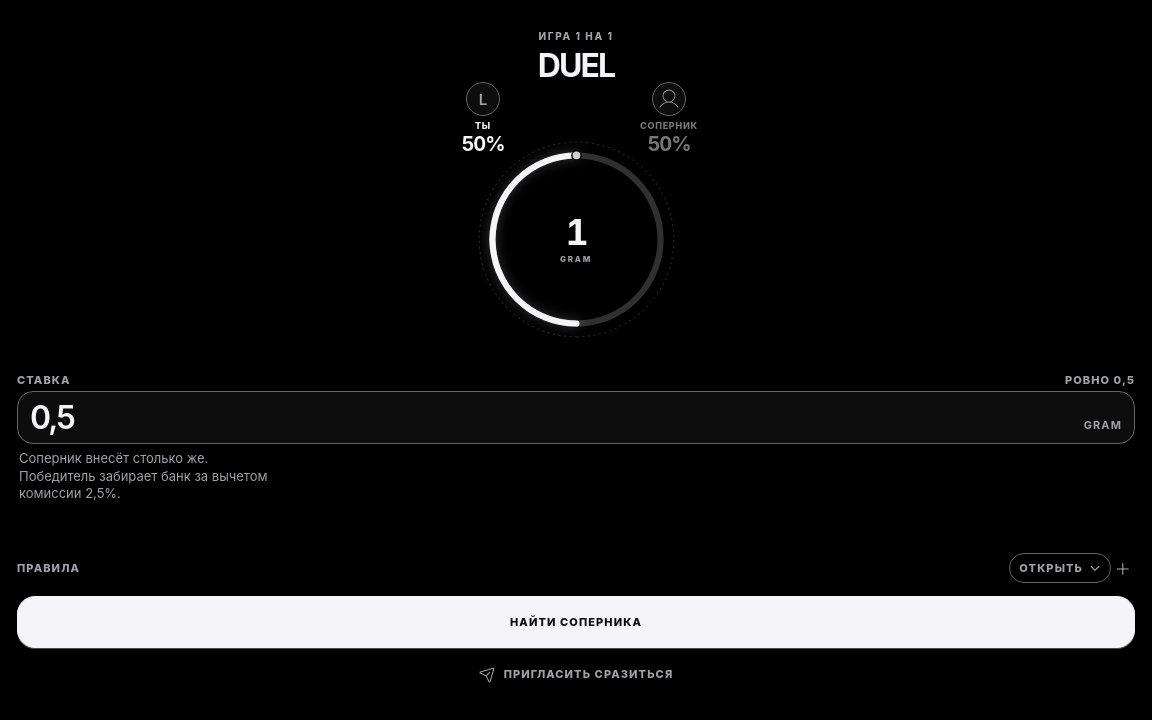
Test: DuelScreen › marks a failure as a failure instead of stamping it with a verified shield
Replace the text in the field named "Ставка в GRAM" with "0.1" at (557, 418), box x1=30 y1=398 x2=1084 y2=437
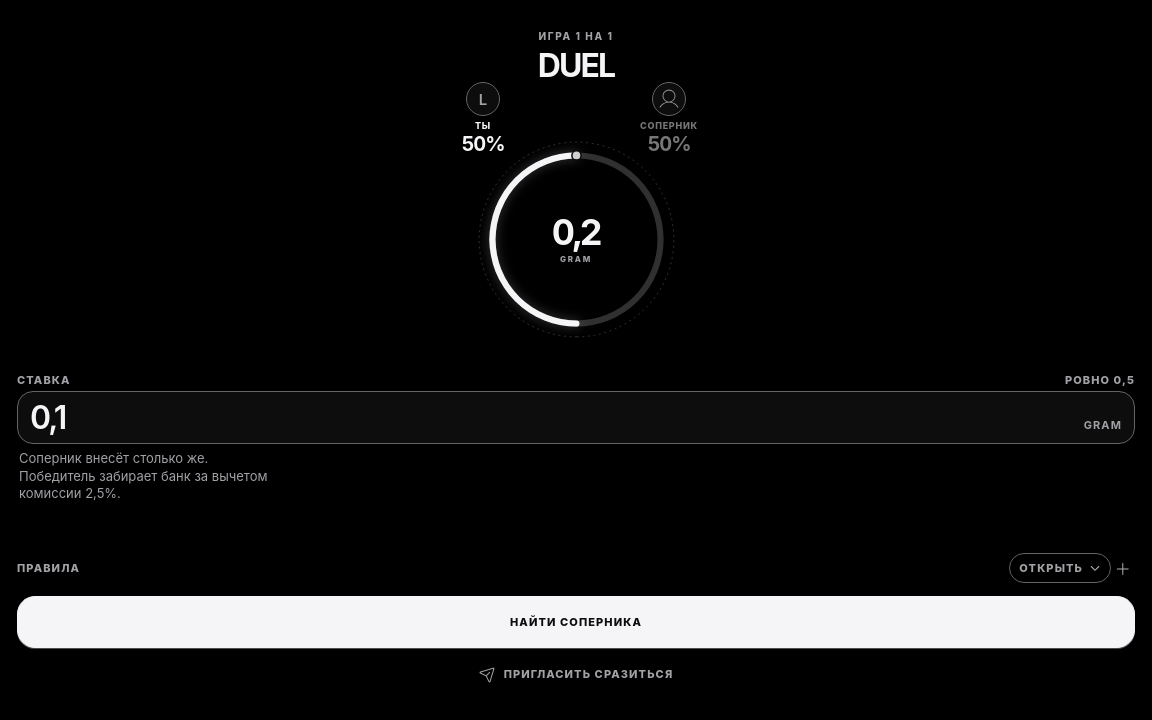
Click the button "НАЙТИ СОПЕРНИКА".
click(576, 622)  # box x1=17 y1=596 x2=1135 y2=648
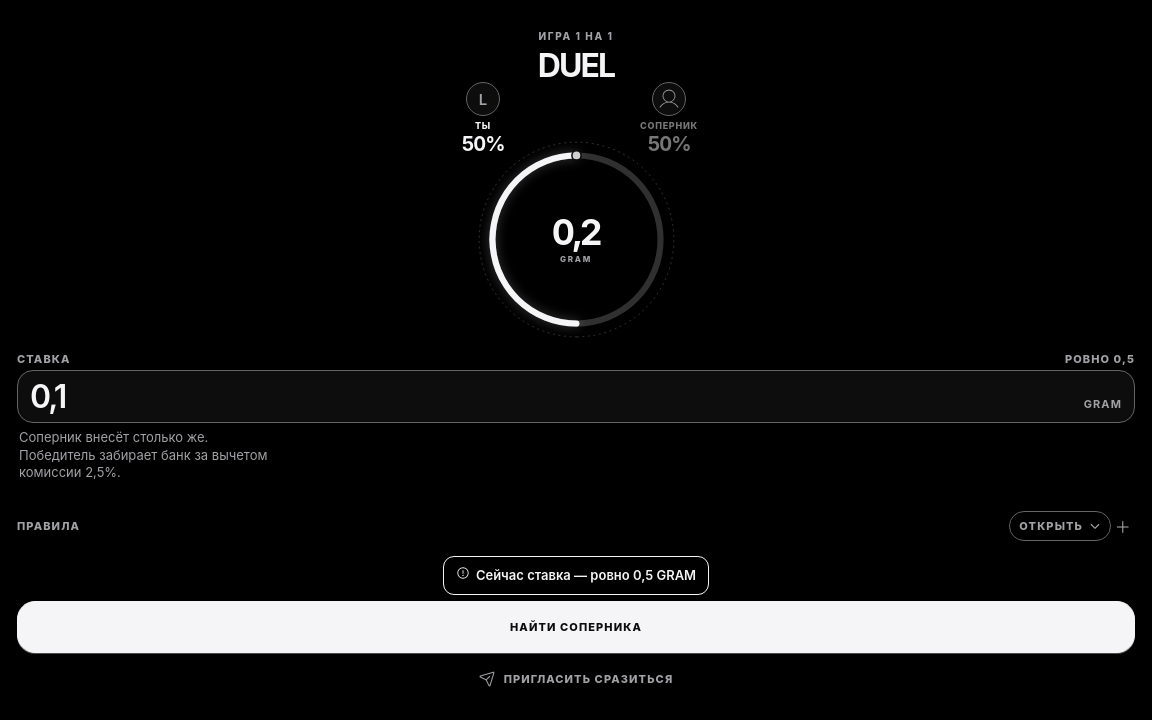
Check: the message reads "Сейчас ставка — ровно 0,5 GRAM", box x1=476 y1=567 x2=696 y2=583
